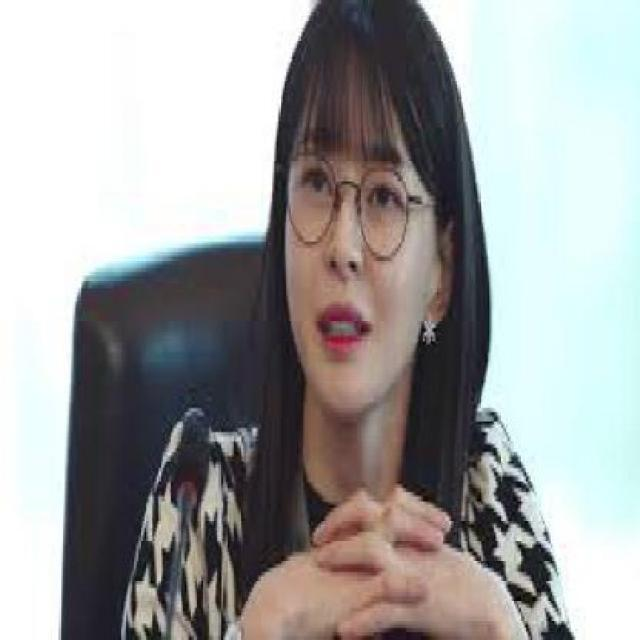glasses: (276, 144, 418, 258)
